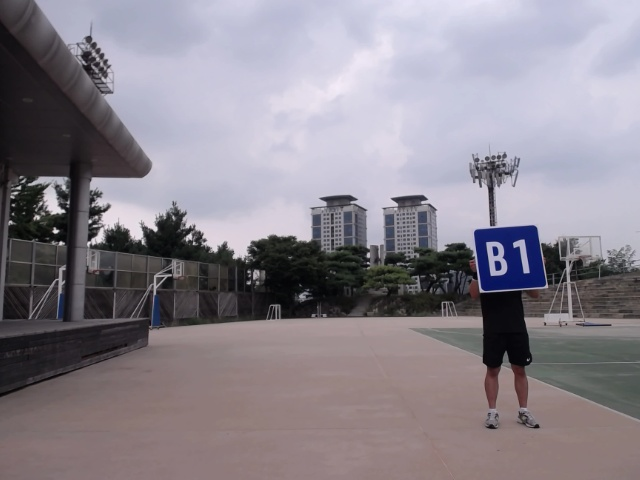delivery_b1: (472, 224, 547, 292)
